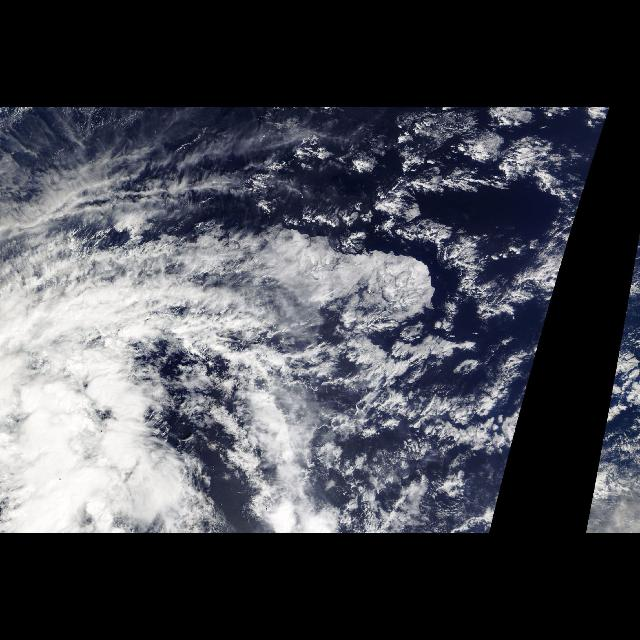Fish: (5, 120, 259, 218)
Gravel: (264, 328, 544, 534), (584, 328, 640, 534)
